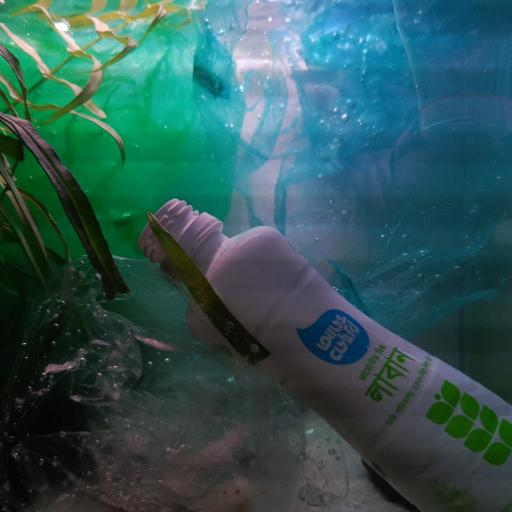plastic_bag: (195, 1, 512, 338), (5, 298, 357, 512), (0, 10, 237, 288)
plastic_bottle: (140, 199, 512, 511)
plastic_cup: (388, 0, 512, 138)
